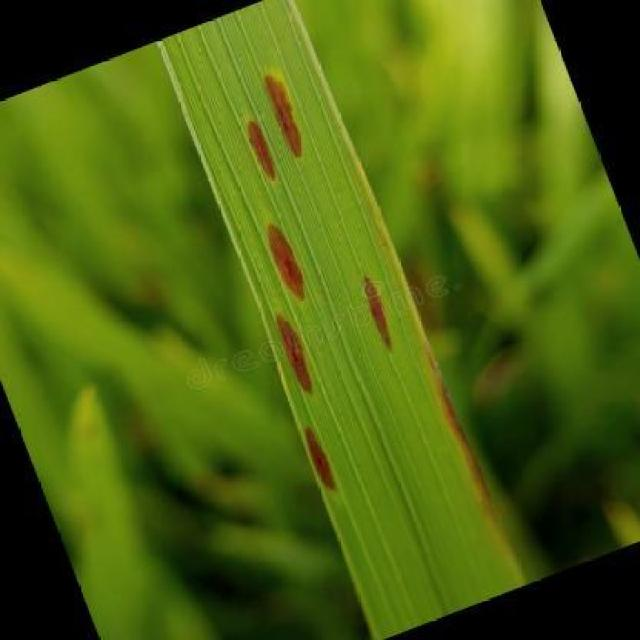Leaf_Blast: (247, 54, 313, 172), (255, 304, 323, 398), (248, 213, 314, 307), (228, 104, 287, 193), (348, 268, 400, 359), (287, 418, 347, 496)
